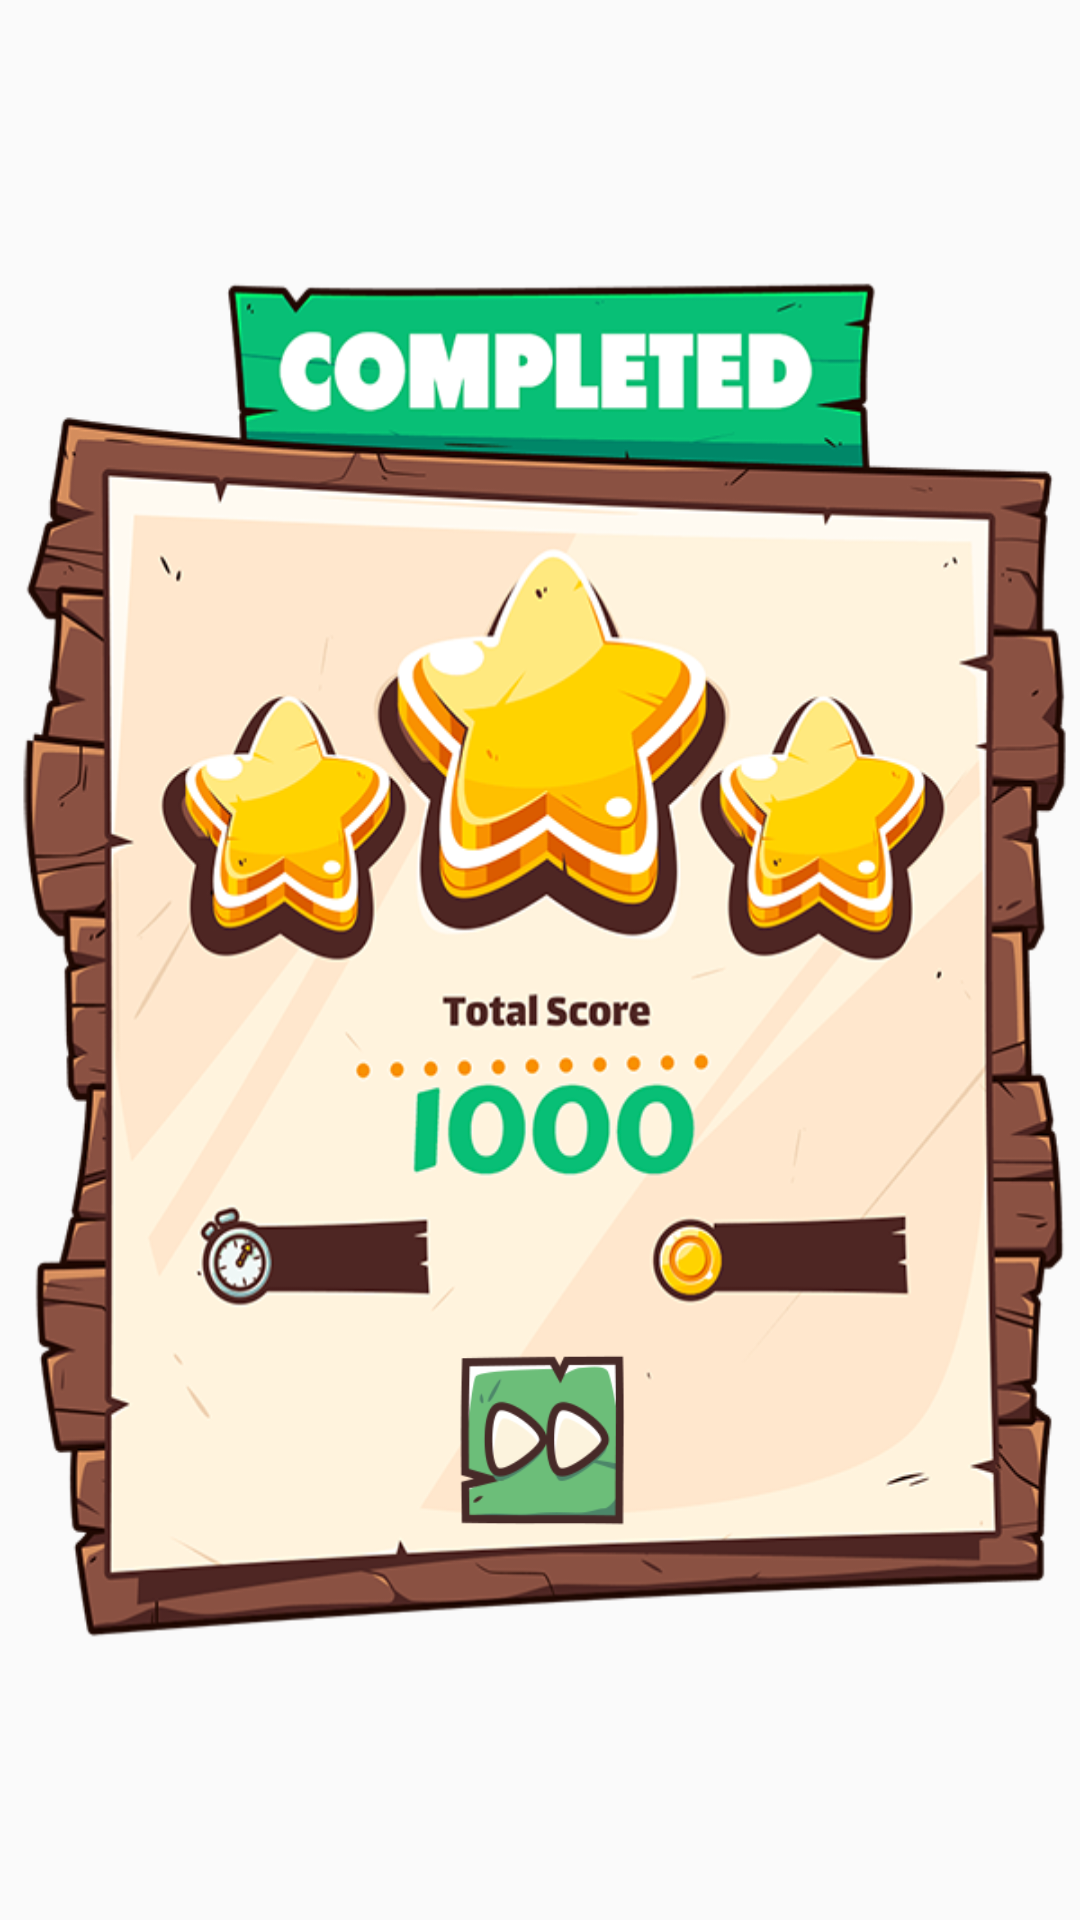

Icons on this 1080x1920 Android screen, each with the point to tap as (x,y):
next: (542,1440)
